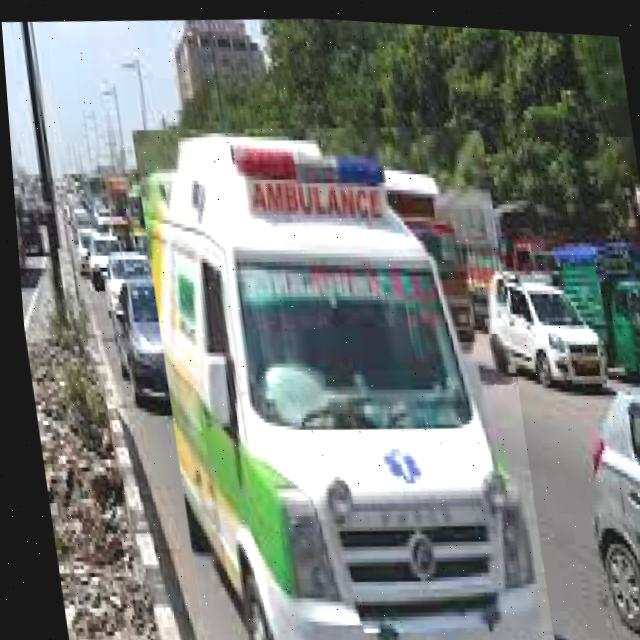Ambulance: (128, 104, 547, 640)
